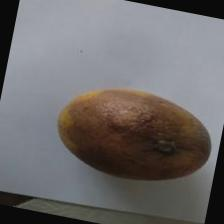Orange Rotten: (48, 70, 224, 204)
